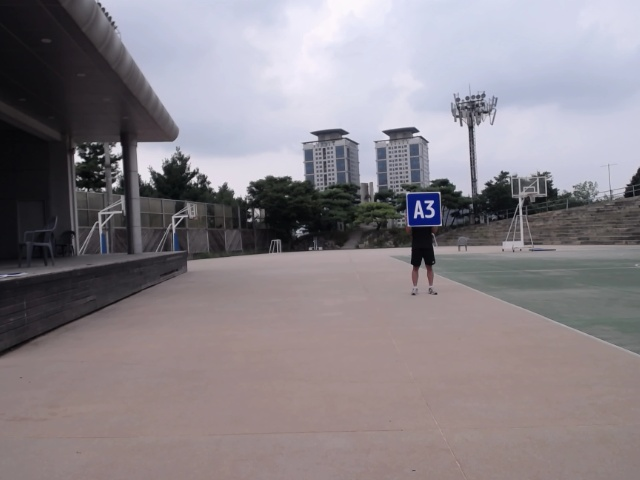delivery_a3: (406, 193, 441, 226)
